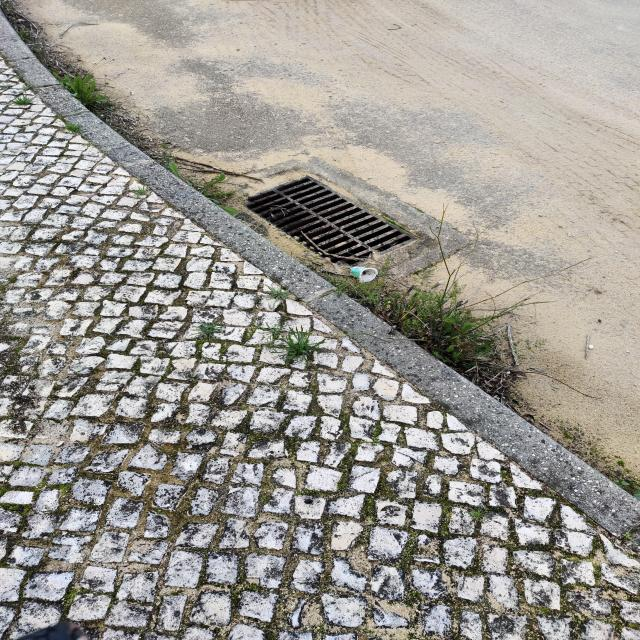litter: (348, 265, 378, 284)
